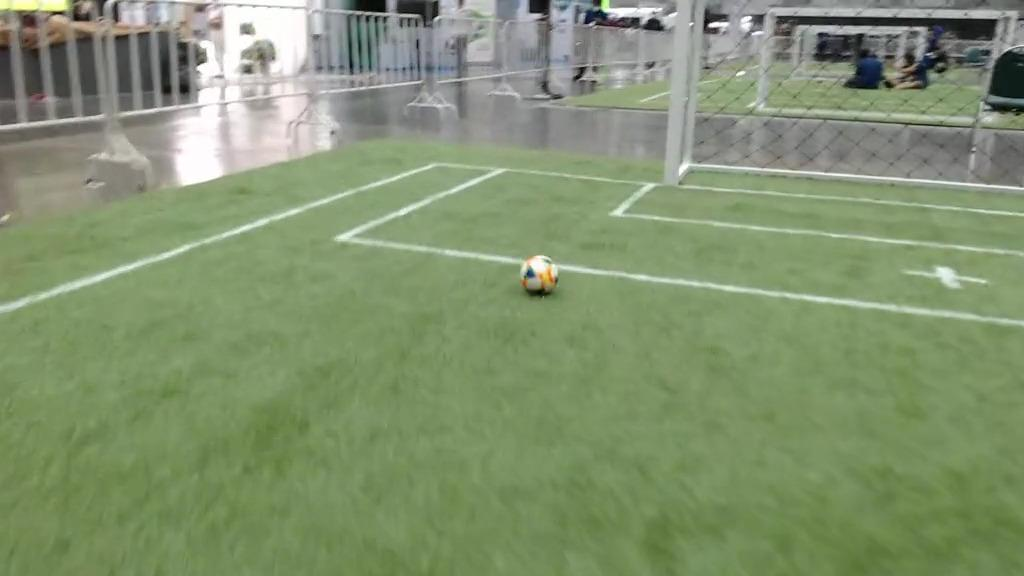ball: (518, 255, 562, 298)
